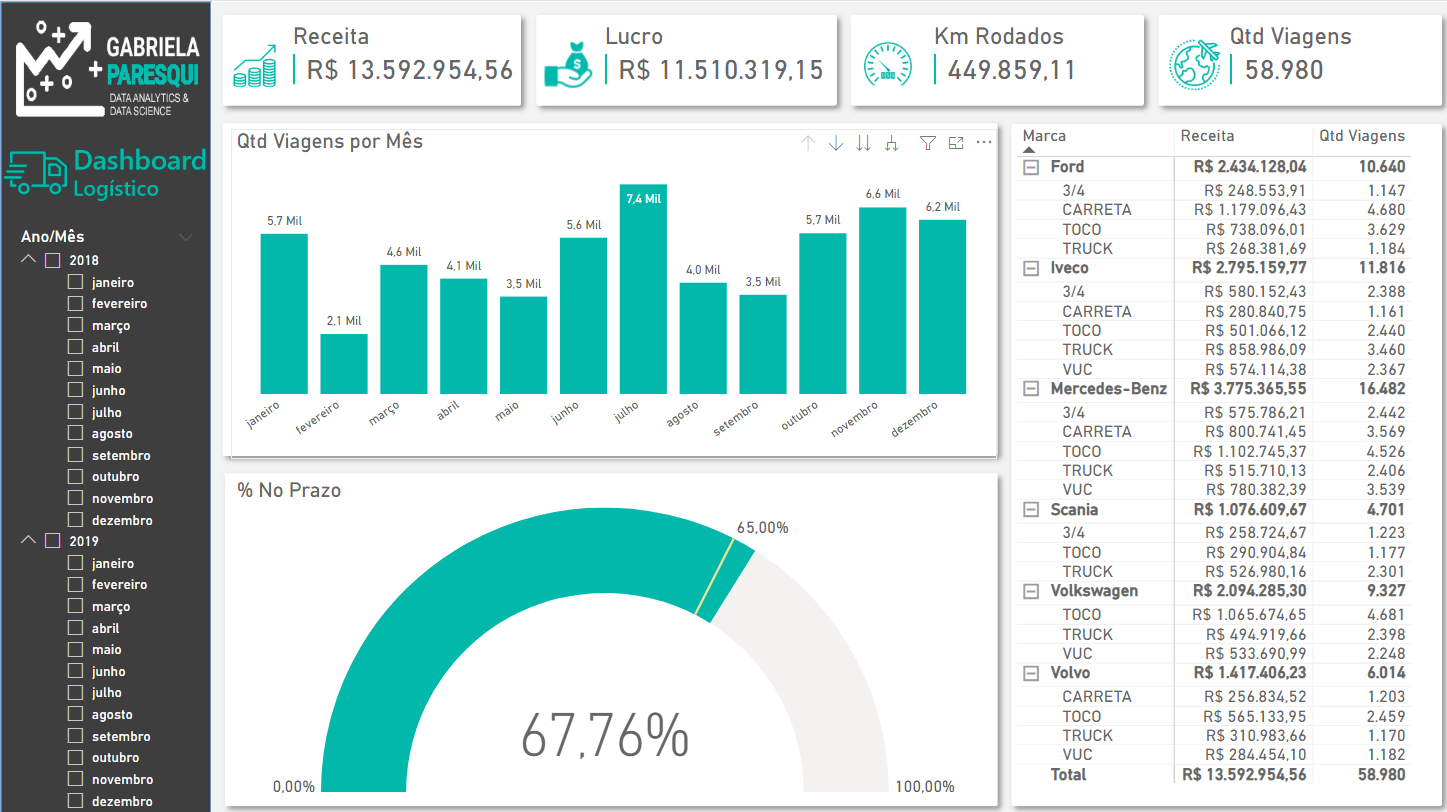

The dashboard page shown, as its layout file describes it:
{"tool":"powerbi","page":{"name":"Dashboard Logístico","canvas":[1280,720],"ordinal":0},"visuals":[{"type":"multiRowCard","title":"Receita","fields":{"Values":["Frete.Receita"]},"box":[252,18.1,224.4,76],"z":0},{"type":"multiRowCard","title":"Lucro","fields":{"Values":["Frete.Lucro"]},"box":[526.5,18.1,227.9,87.2],"z":1000},{"type":"multiRowCard","title":"Km Rodados","fields":{"Values":["Frete.Km Rodados"]},"box":[815.6,18.1,210.6,76],"z":2000},{"type":"multiRowCard","title":"Qtd Viagens","fields":{"Values":["Frete.Qtd Viagens"]},"box":[1076.3,18.1,188.2,73.4],"z":3000},{"type":"pivotTable","fields":{"Rows":["Frete.Marca","Frete.Tipo Veículo"],"Values":["Frete.Receita","Frete.Qtd Viagens"]},"box":[889,105.3,384.1,593],"z":4000},{"type":"columnChart","fields":{"Category":["Frete.Data Pedido.Variation.Hierarquia de datas.Mês","Frete.Data Pedido.Variation.Hierarquia de datas.Dia"],"Y":["Frete.Qtd Viagens"]},"box":[202.8,112.2,673.2,290],"z":5000},{"type":"gauge","fields":{"Y":["Frete.% No Prazo"]},"box":[202.8,419.5,673.2,285.7],"z":6000},{"type":"slicer","fields":{"Values":["Frete.Data Pedido.Variation.Hierarquia de datas.Ano","Frete.Data Pedido.Variation.Hierarquia de datas.Mês"]},"box":[5.2,194.2,176.9,524.8],"z":7000},{"type":"image","box":[194.2,33.7,57.8,46.6],"z":8000},{"type":"image","box":[467.8,30.2,63,51.8],"z":9000},{"type":"image","box":[744.9,29.3,70.8,51.8],"z":10000},{"type":"image","box":[1018.5,29.3,63,55.2],"z":11000}]}

Visuals, with their boxes in screenshot pixels (x1, y1, x2, y2), scaled from the page's 1280x720 canvas onto the 1447x812 screenshot:
"Receita" multiRowCard: box=[285, 20, 539, 106]
"Lucro" multiRowCard: box=[595, 20, 853, 119]
"Km Rodados" multiRowCard: box=[922, 20, 1160, 106]
"Qtd Viagens" multiRowCard: box=[1217, 20, 1429, 103]
pivotTable - Frete.Marca x Frete.Tipo Veículo: box=[1005, 119, 1439, 788]
columnChart - Frete.Data Pedido.Variation.Hierarquia de datas.Mês x Frete.Data Pedido.Variation.Hierarquia de datas.Dia: box=[229, 127, 990, 454]
gauge - Frete.% No Prazo: box=[229, 473, 990, 795]
slicer - Frete.Data Pedido.Variation.Hierarquia de datas.Ano x Frete.Data Pedido.Variation.Hierarquia de datas.Mês: box=[6, 219, 206, 811]
image: box=[220, 38, 285, 91]
image: box=[529, 34, 600, 92]
image: box=[842, 33, 922, 91]
image: box=[1151, 33, 1223, 95]
